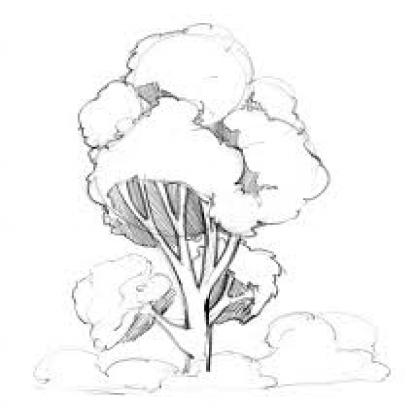branch_cut: (118, 173, 246, 295)
crown_dizzy: (81, 20, 332, 250)
trunk_straight: (180, 296, 218, 361)
